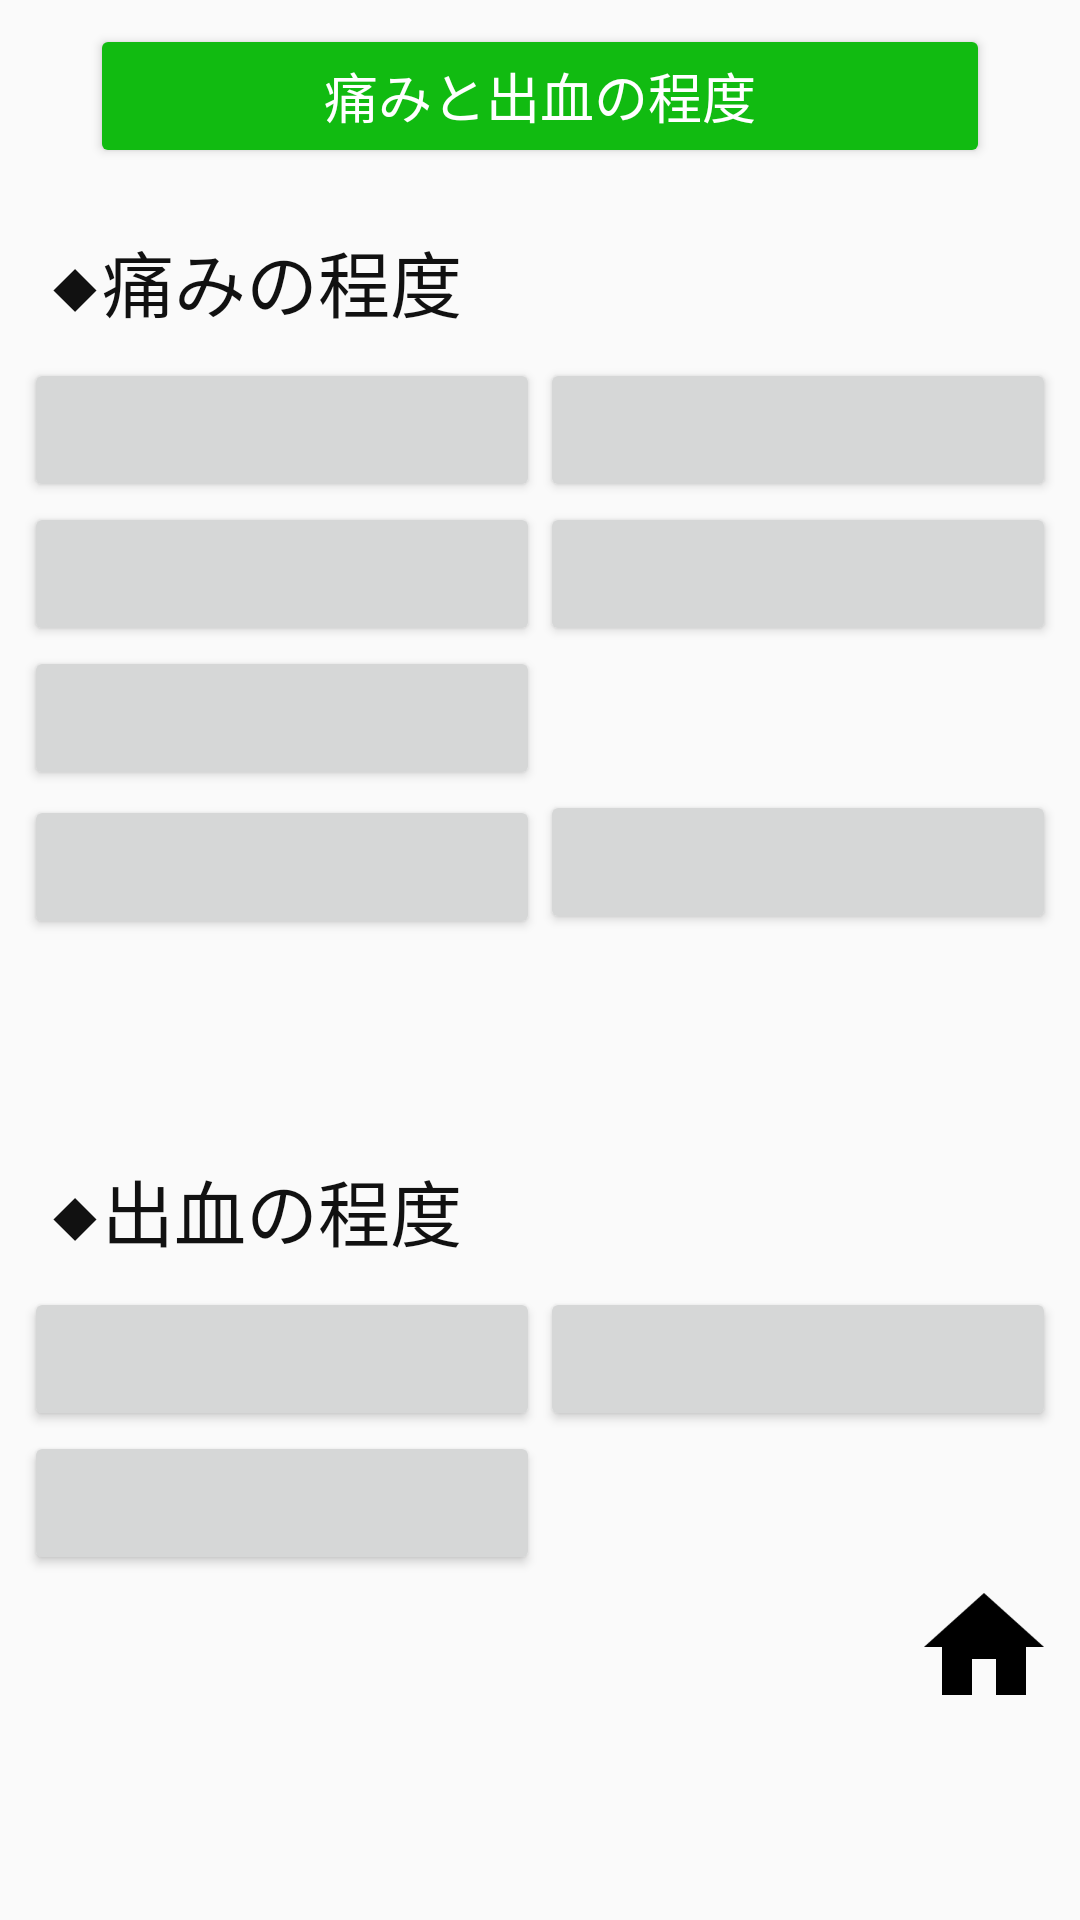

Point at icon controls on the screen. Image size 1080w x 1920h, points as [x,y].
home: [984,1644]
